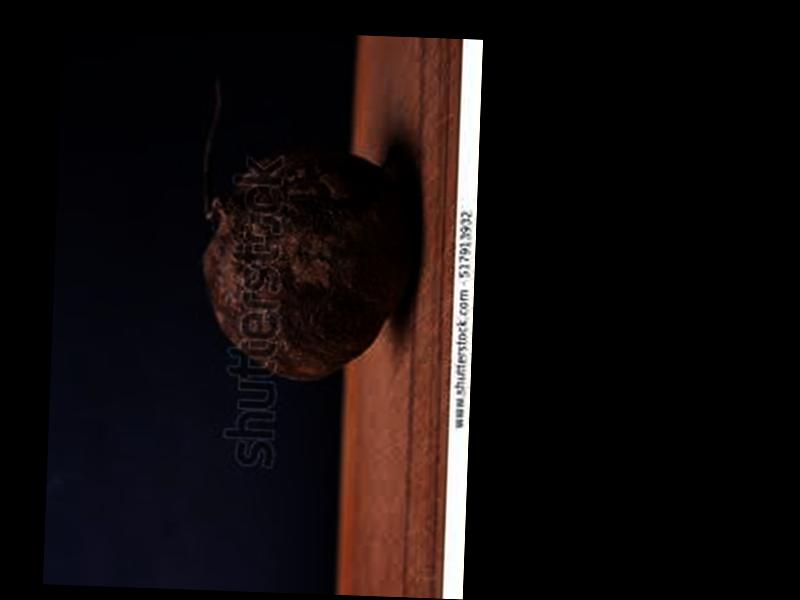Beet: (193, 73, 419, 383)
